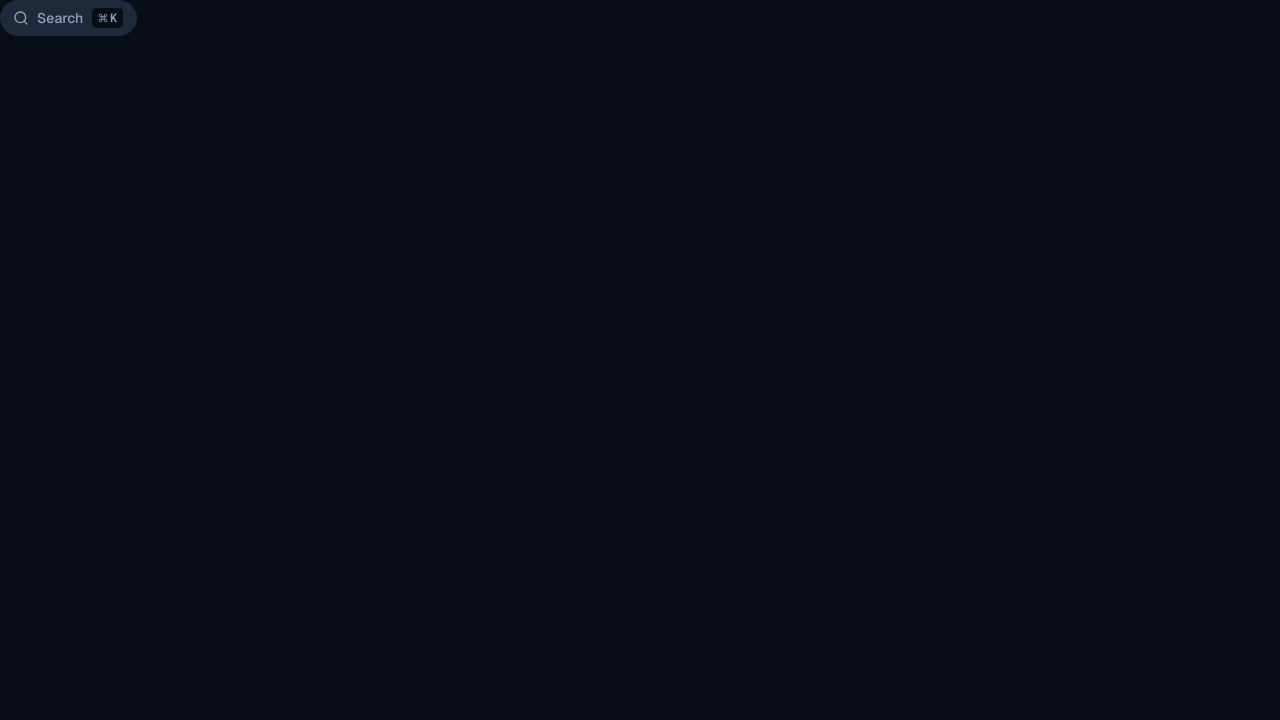
Test: GlobalSearch › finds chickens by name and opens the details modal on Enter
This screenshot has width=1280, height=720.
Press k
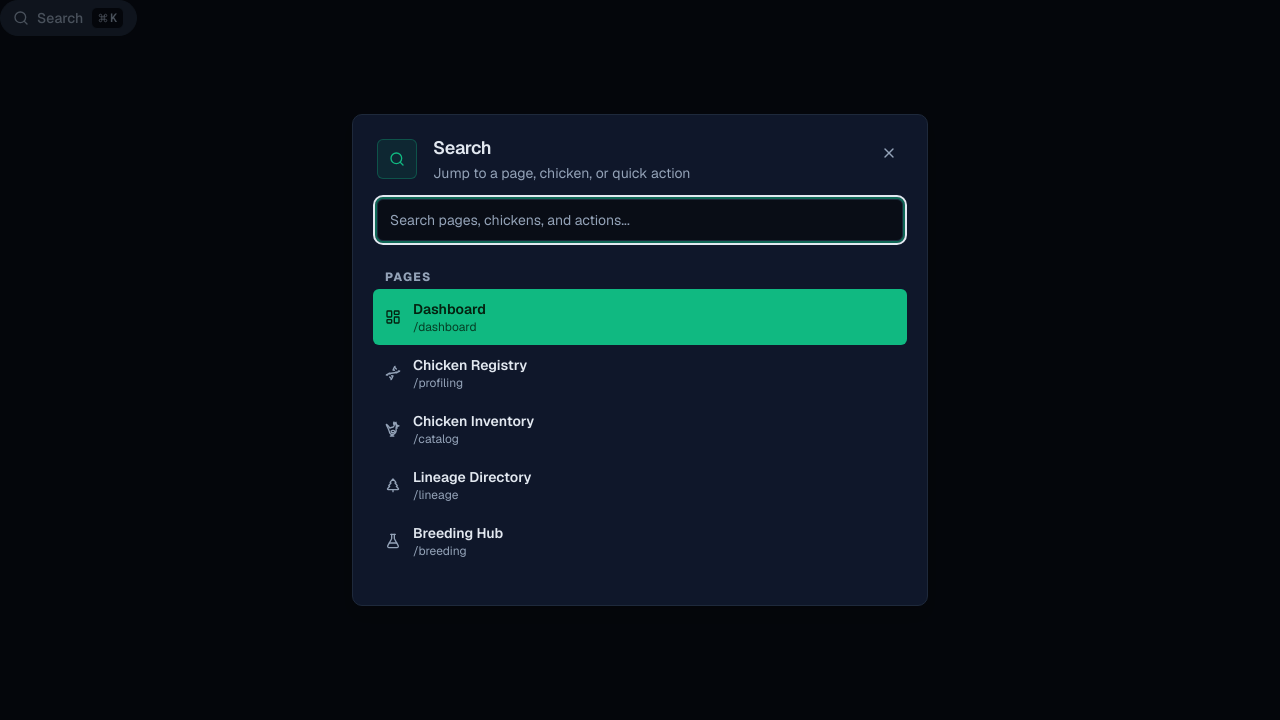
Type "crim" into the dropdown labelled "Search" at (640,220), box [377, 199, 903, 241]
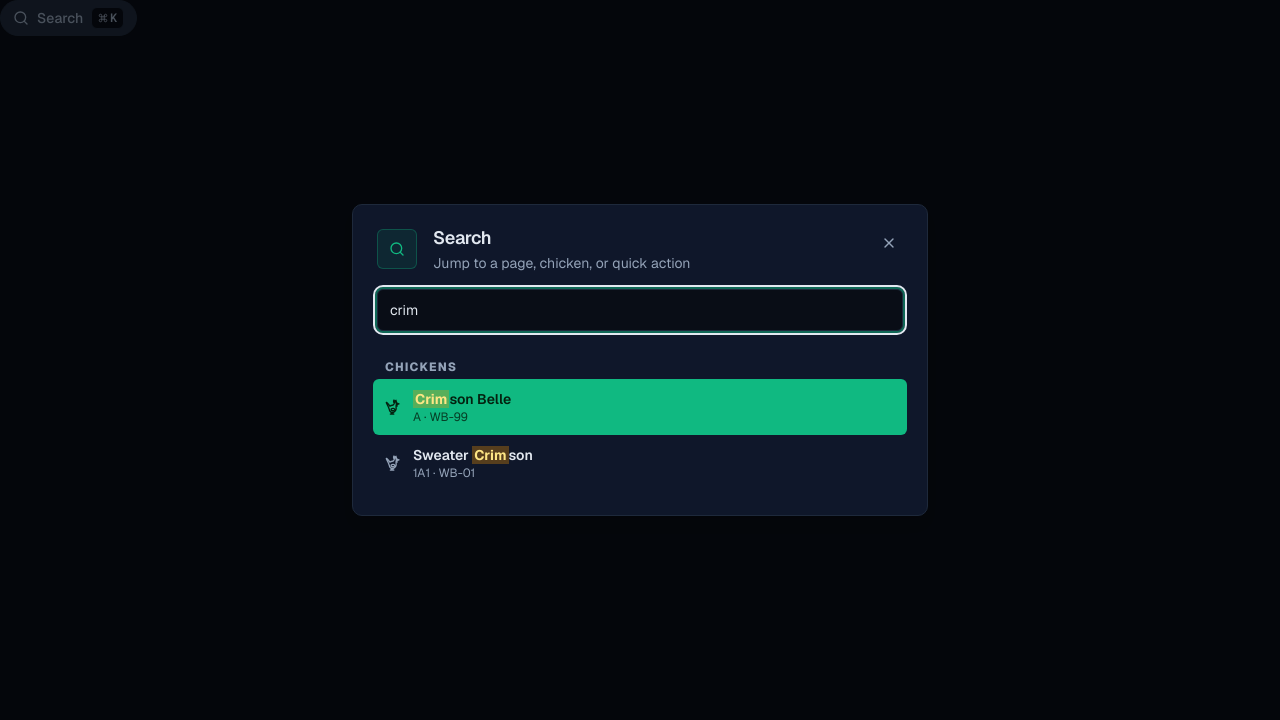
Check: the option "Crimson Belle A · WB-99" is shown, box [373, 379, 907, 435]
Check: the option "Sweater Crimson 1A1 · WB-01" is shown, box [385, 446, 533, 481]
Press Enter in the dropdown named "Search", box [377, 289, 903, 331]
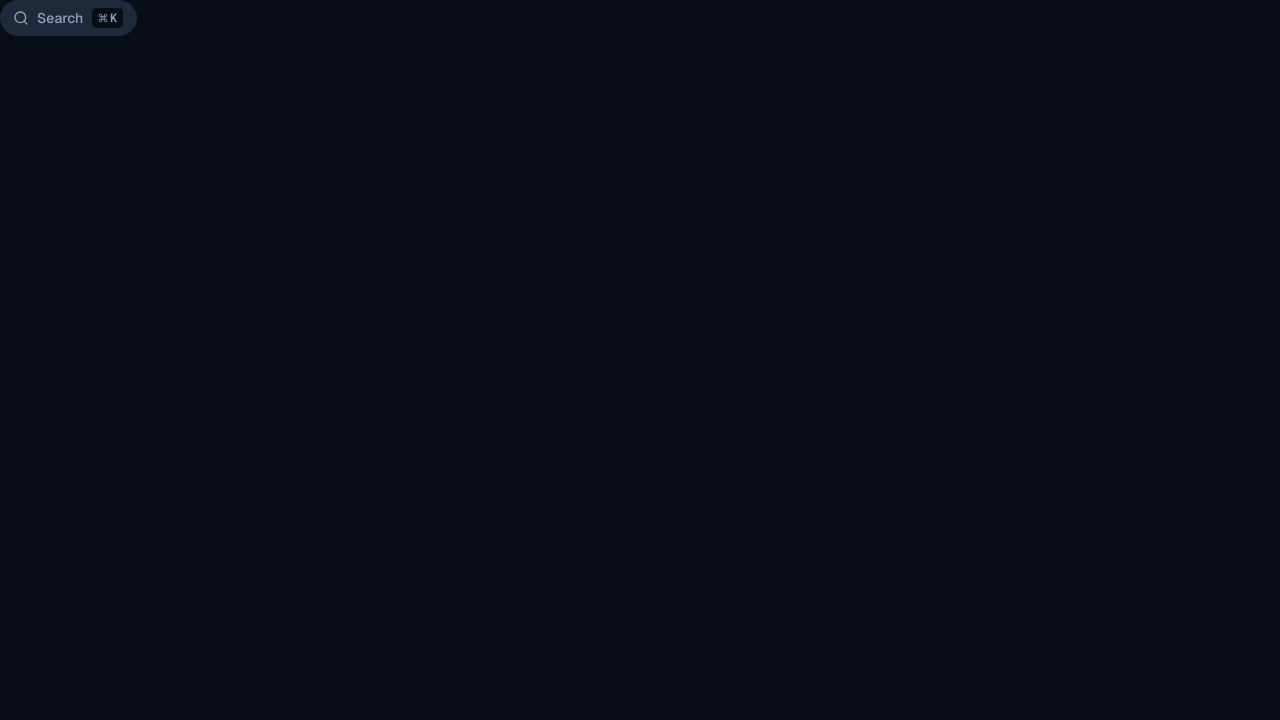
Check: the dialog is gone
